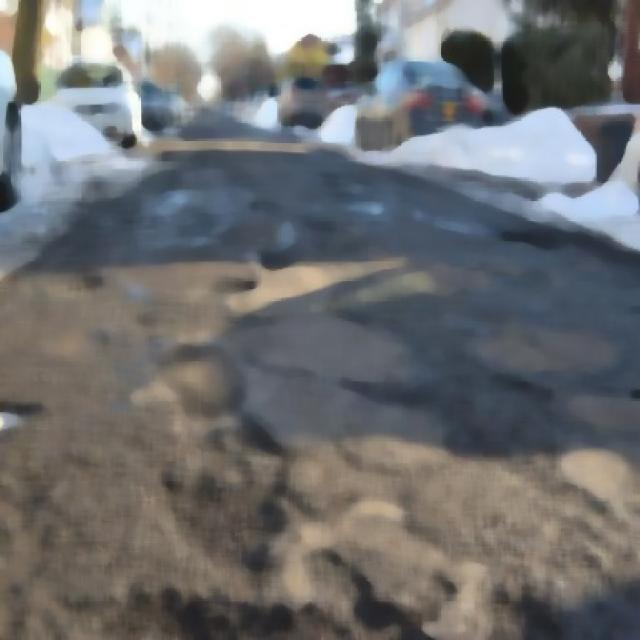Pothole: (116, 576, 430, 638), (181, 439, 282, 572), (498, 224, 568, 262), (156, 179, 195, 223), (63, 268, 103, 302), (190, 276, 264, 293), (0, 398, 28, 429), (262, 249, 293, 274), (623, 375, 639, 411), (623, 300, 639, 323)
